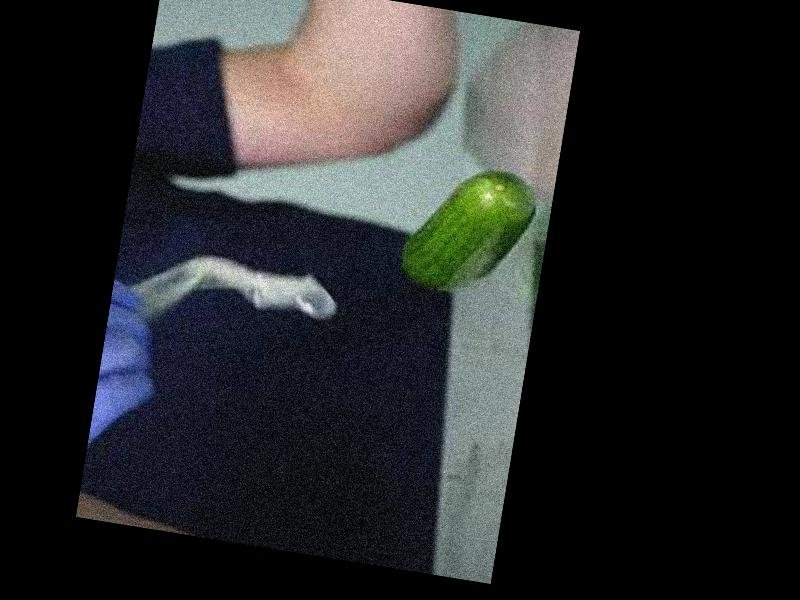Cucumber: (397, 157, 541, 302)
